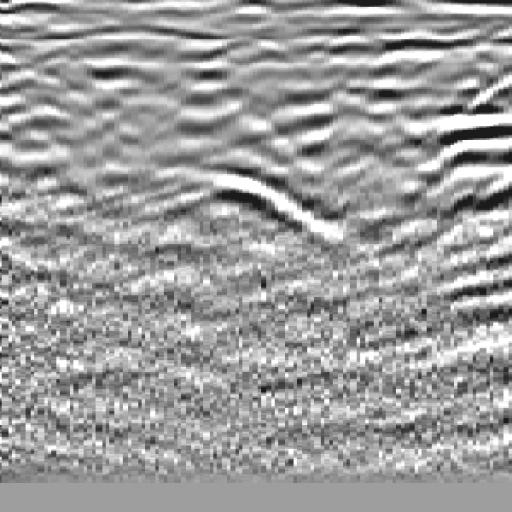metalic: (143, 151, 350, 262)
nonmetalic: (373, 36, 512, 292)
